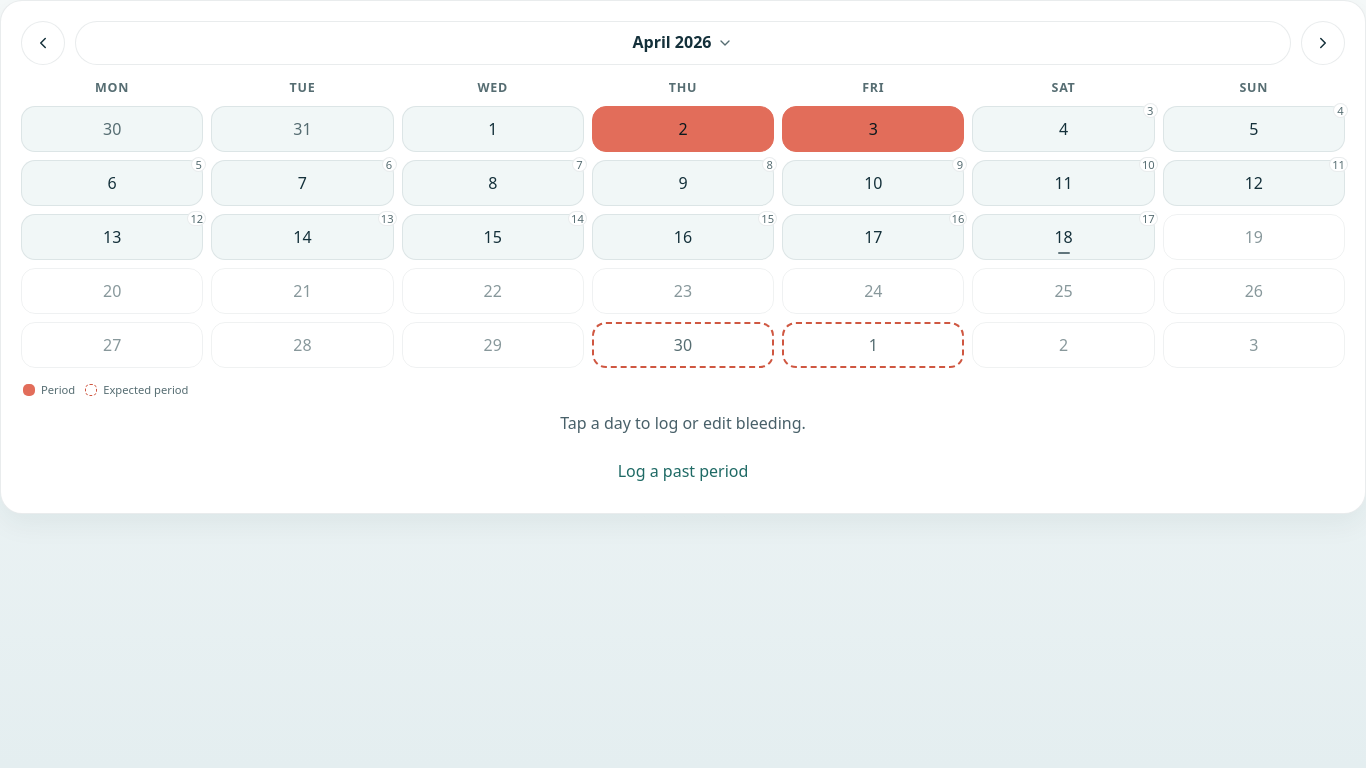
Test: CalendarScreen › explains that a fully future month can't be logged
Step 1. Click the button named "next month" → point(1323, 43), box [1301,21,1345,65]
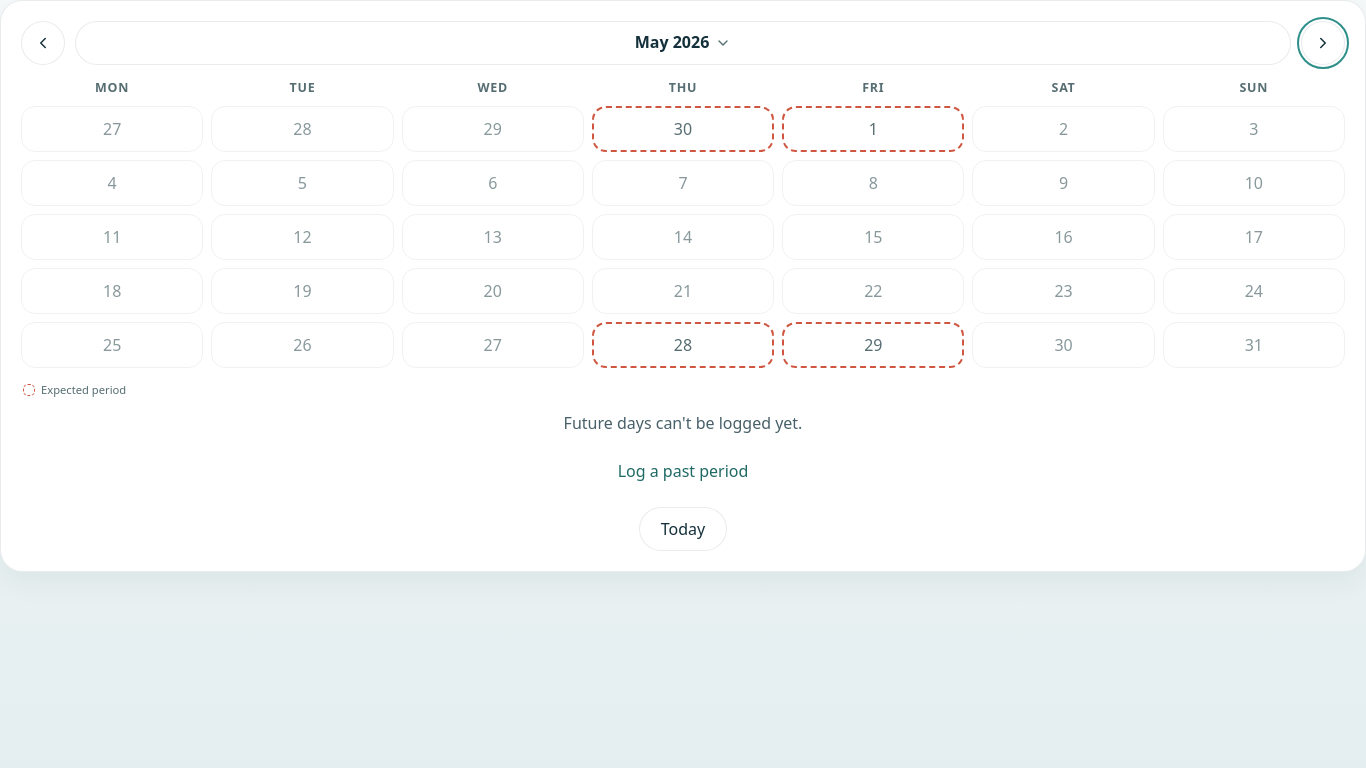
expect the text "Future days can't be logged yet." is shown: met, box [564,412,802,434]
